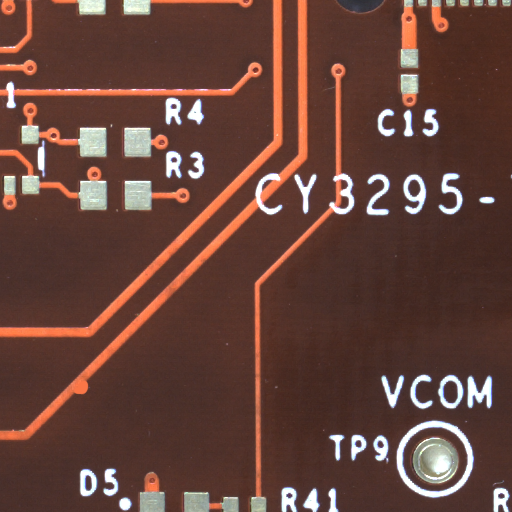Spur: (80, 387, 95, 402)
